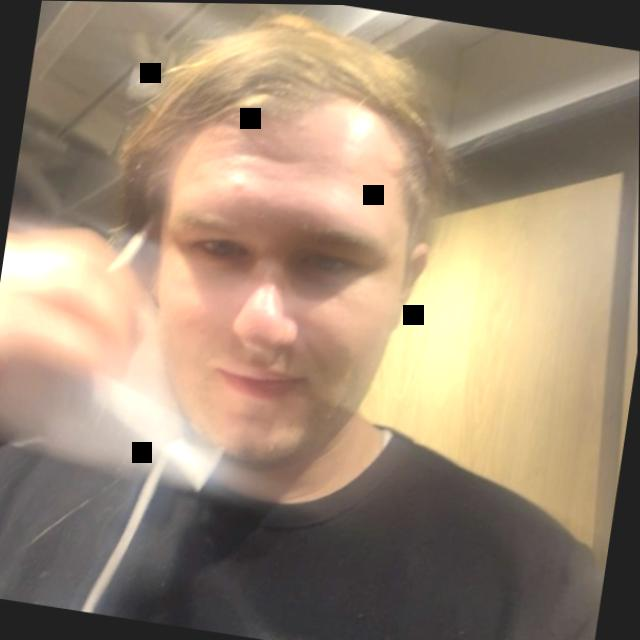NO-Mask: (87, 1, 491, 503)
